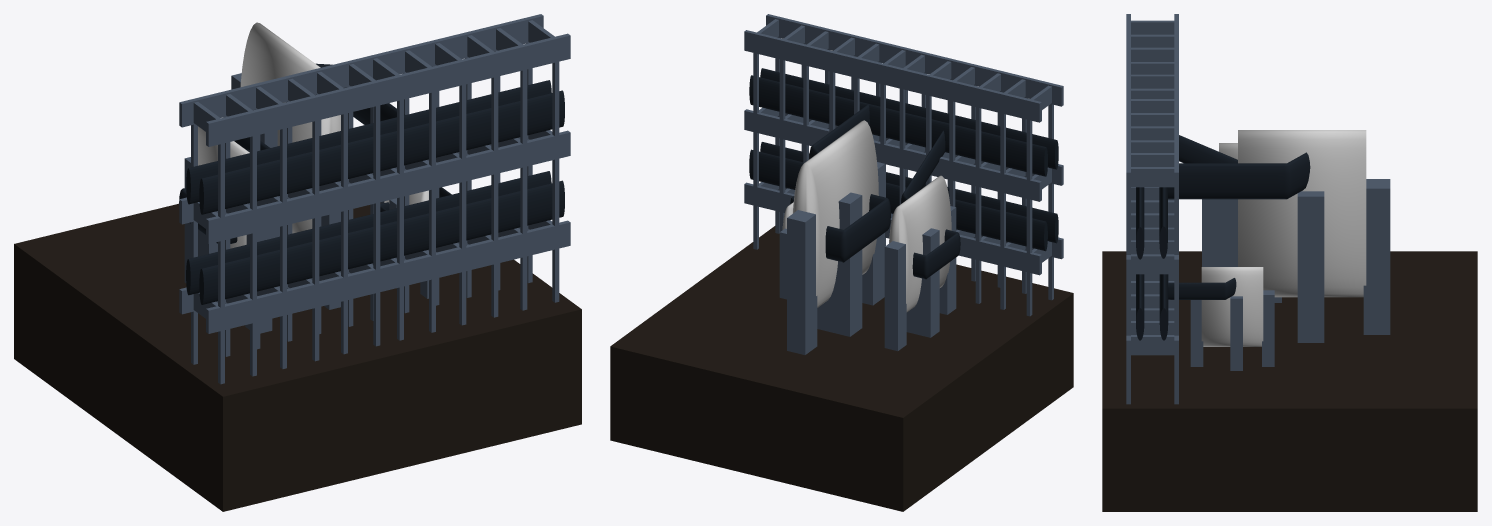
Rendered from Flare KO Drum_cube.fbx.
3 renders of one model, left to right at view 1: azimuth 30°, elevation 25°; view 2: azimuth 150°, elevation 25°; view 3: azimuth 270°, elevation 25°, orthographic. The views are drawn at different scales.
Visible parts, largest first — view 1: FlareKODrum_cube; view 2: FlareKODrum_cube; view 3: FlareKODrum_cube.
Part boxes in pixels (bbox=[...]): FlareKODrum_cube: bbox=[14, 14, 581, 511]; FlareKODrum_cube: bbox=[610, 14, 1073, 511]; FlareKODrum_cube: bbox=[1102, 14, 1477, 511].
Size of the model in its own units: 100 by 100 by 100.
